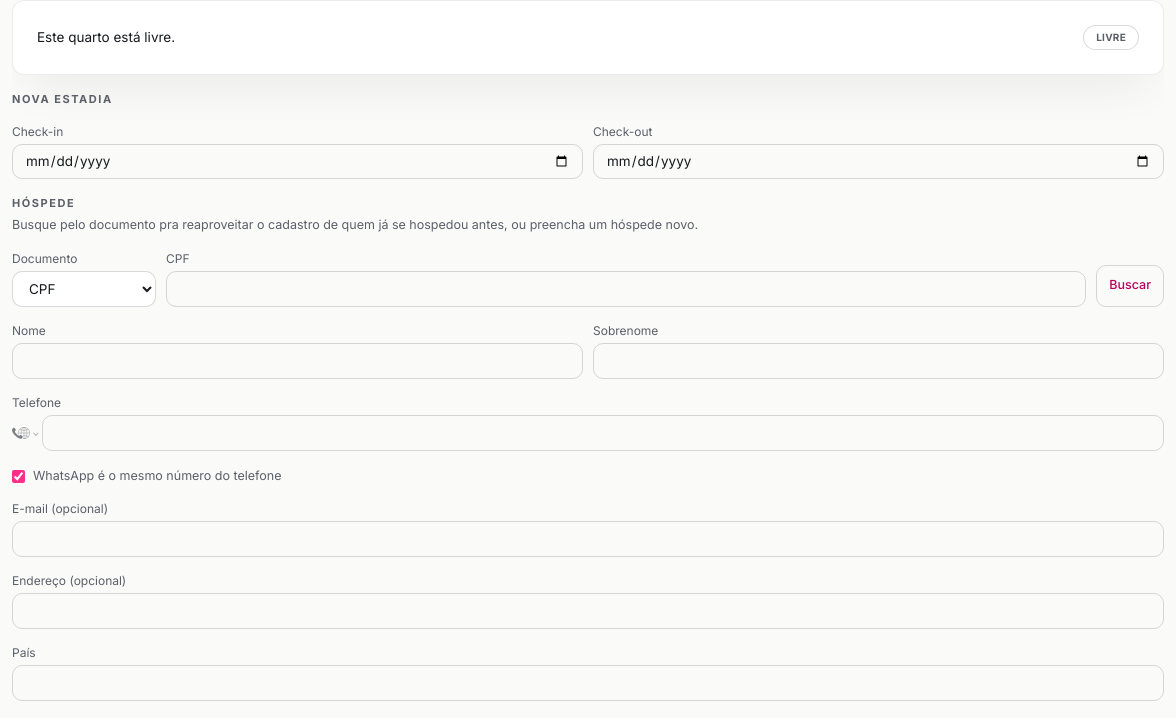
Test: OccupancyForm › prefills fields when lookup finds a returning guest
In the field labelled "CPF": {"x": 626, "y": 289} [166,271,1086,307], type "12345678900"
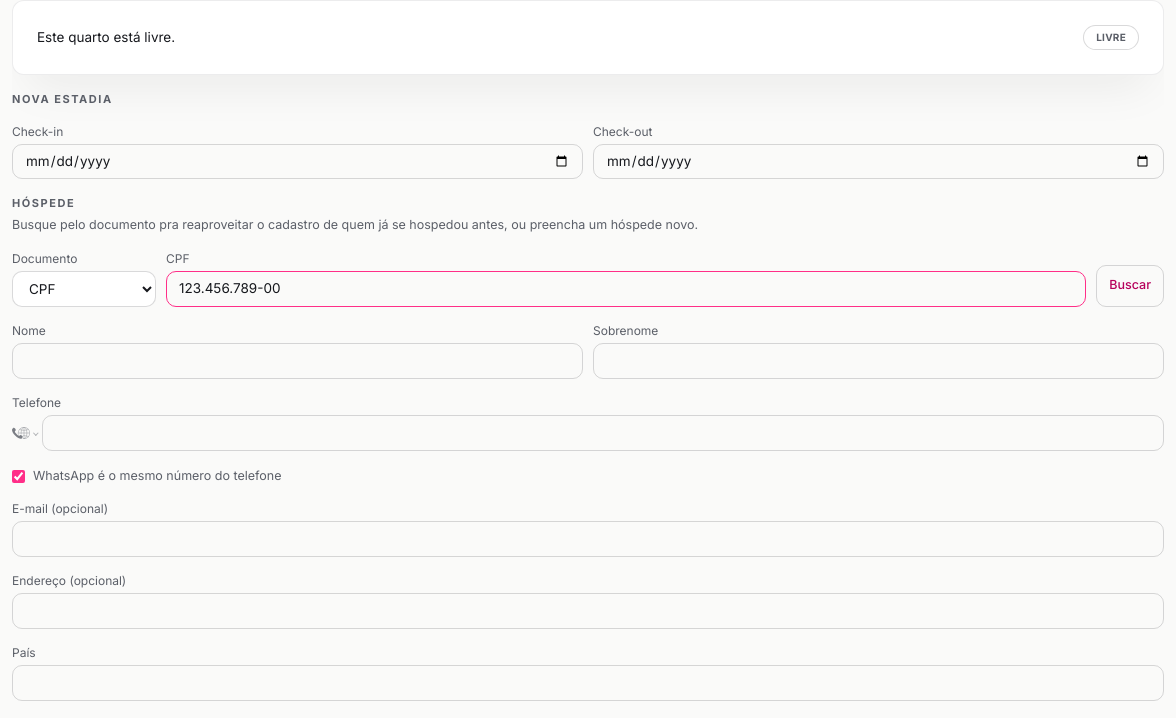
Click the button "Buscar": {"x": 1130, "y": 286} [1096,265,1164,307]
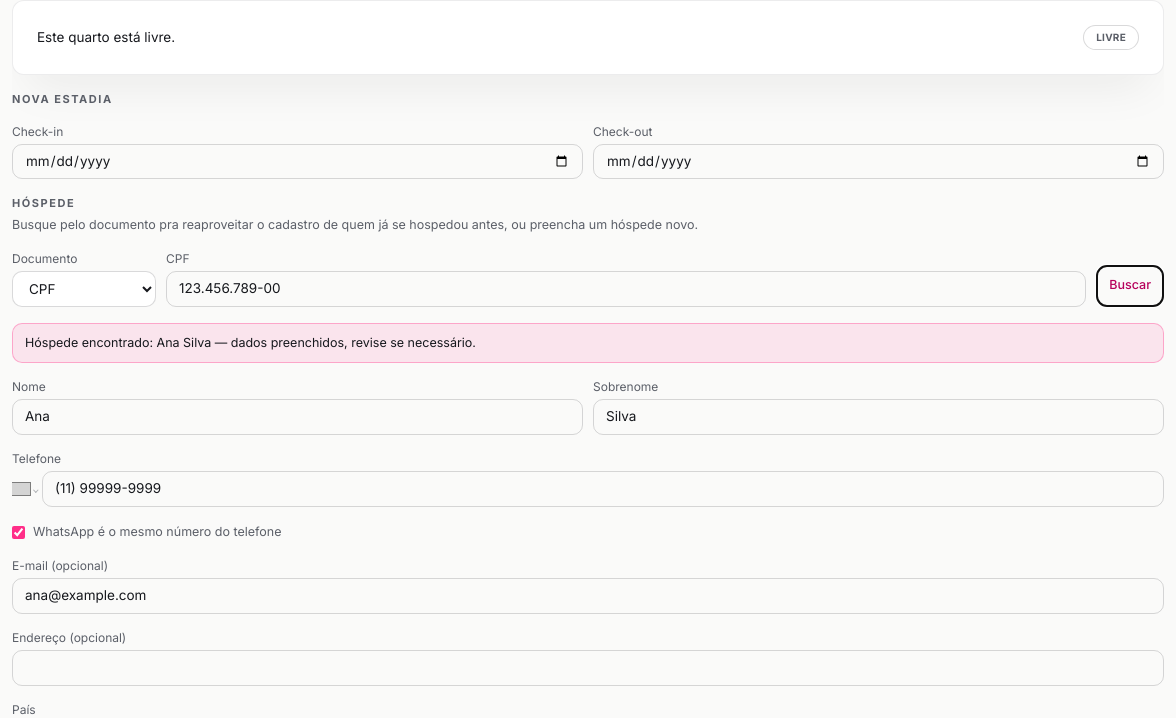
Expected: the text "Hóspede encontrado: Ana Silva" is shown, [25,335,476,350]
Expected: the field labelled "Nome" holds "Ana", [12,400,583,436]
Expected: the field labelled "E-mail (opcional)" holds "ana@example.com", [12,578,1164,614]
